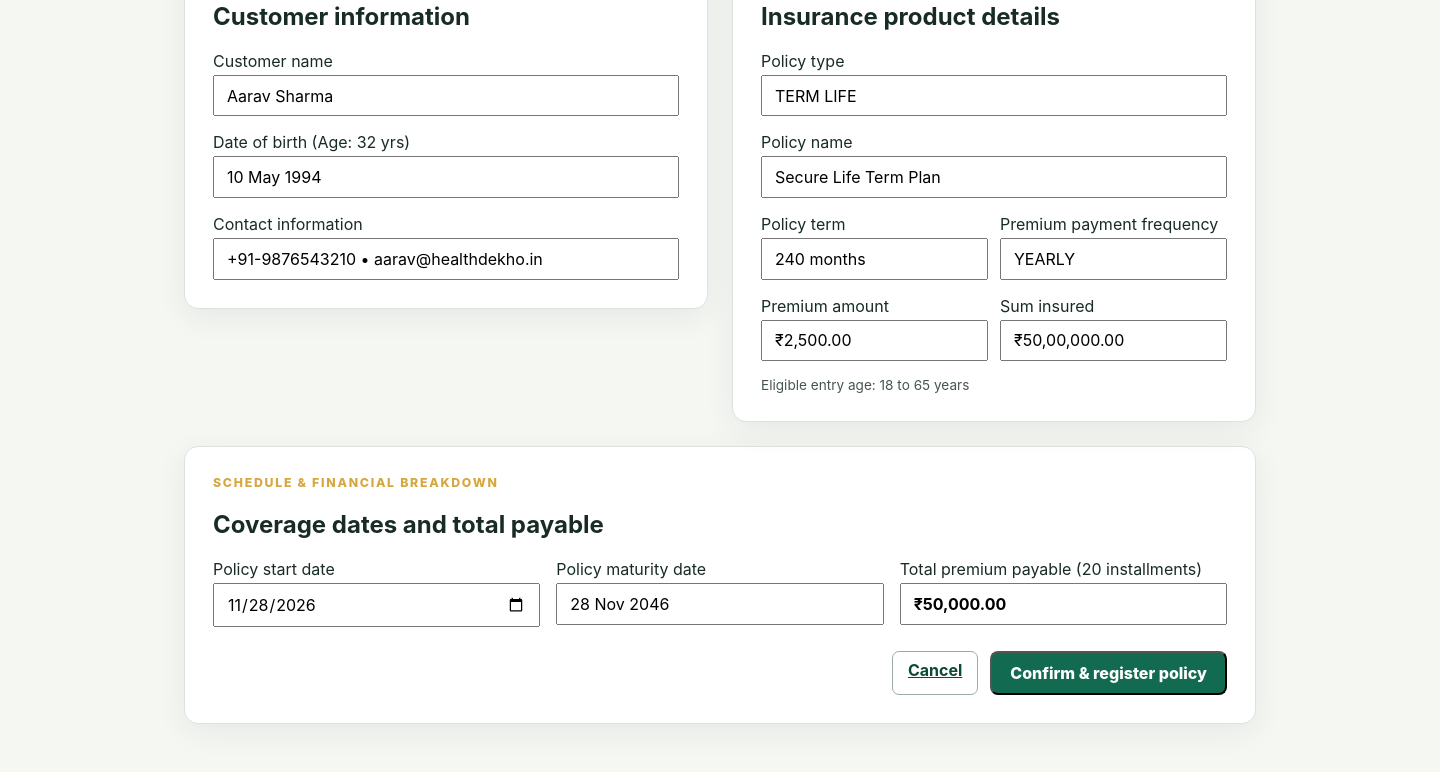
Test: PolicyRegistrationPage › displays backend business-rule violation error when registration fails
(page scrolled)
Click the button "Confirm & register policy": (1109, 673) [990,651,1227,695]
(page scrolled)
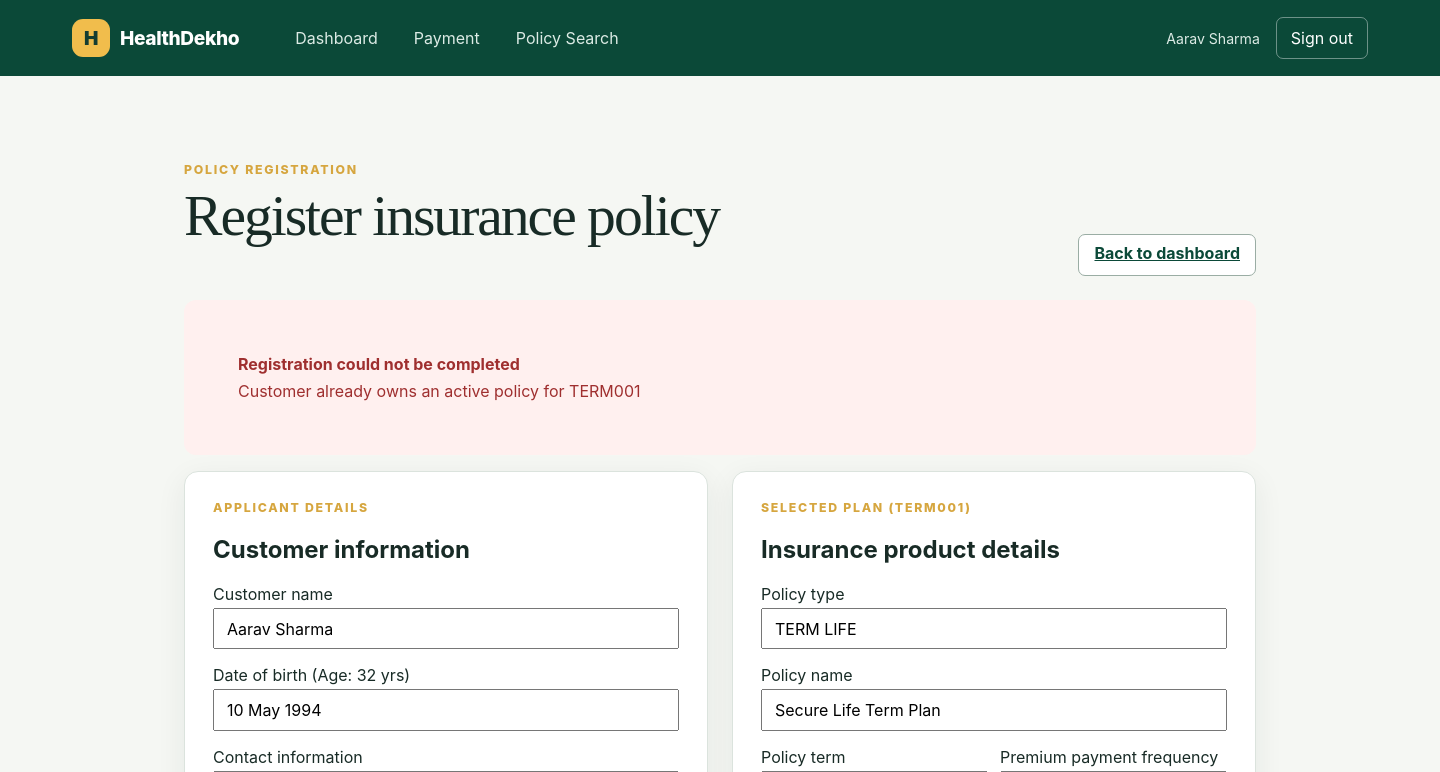
Check: the text "Customer already owns an active policy for TERM001" is shown, box [238,381,640,401]
